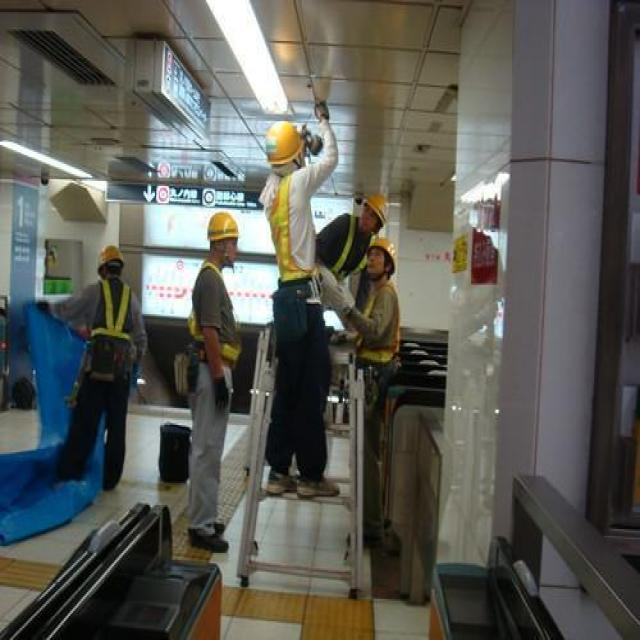Vest: (266, 157, 315, 288), (187, 261, 246, 364), (356, 278, 406, 365), (325, 215, 382, 275), (91, 282, 134, 340)
